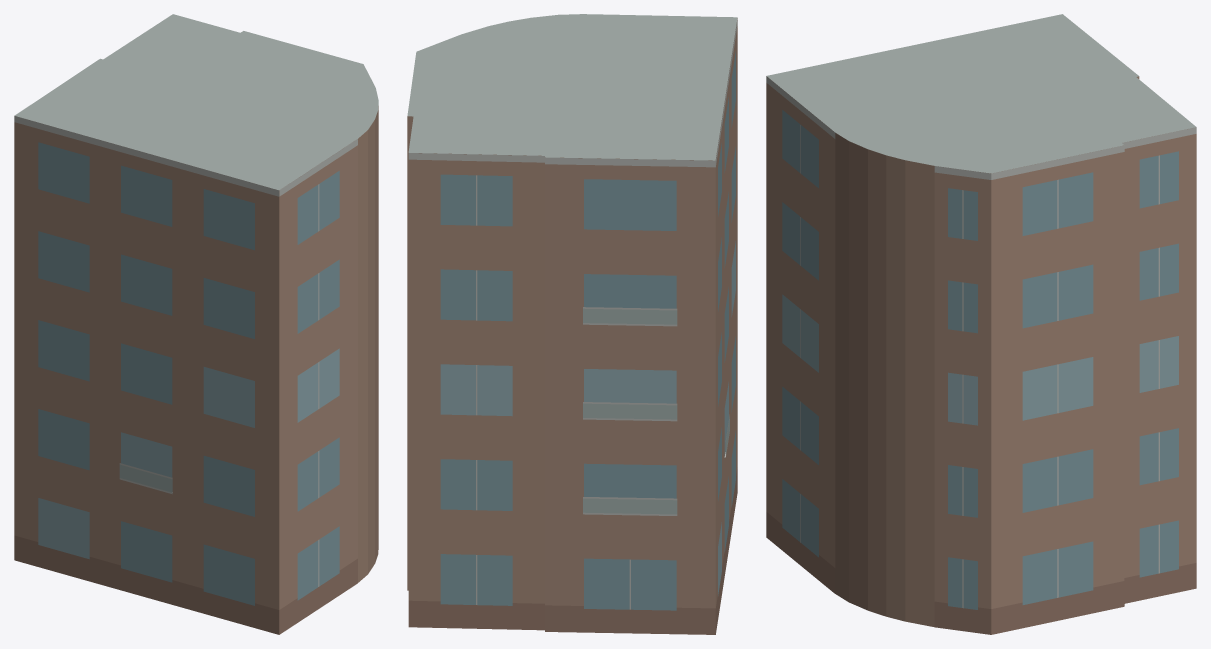
File: survey-upis-32841015.glb
3 views of the same model, side by side, from view 1: azimuth 30°, elevation 25°; view 2: azimuth 150°, elevation 25°; view 3: azimuth 270°, elevation 25° (orthographic). The views are drawn at different scales.
Parts seen in each view (by area): view 1: survey-upis-32841015.tmp; view 2: survey-upis-32841015.tmp; view 3: survey-upis-32841015.tmp.
Boxes of the visible parts, x1=… form: survey-upis-32841015.tmp: x1=14, y1=14, x2=378, y2=634; survey-upis-32841015.tmp: x1=407, y1=14, x2=737, y2=634; survey-upis-32841015.tmp: x1=766, y1=14, x2=1196, y2=634.
Size of the model in its own units: 12.6 by 16.98 by 14.36.
